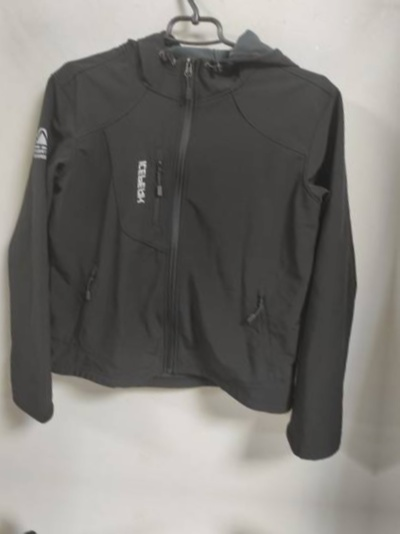Hoodie: (0, 9, 392, 467), (0, 513, 344, 534)
